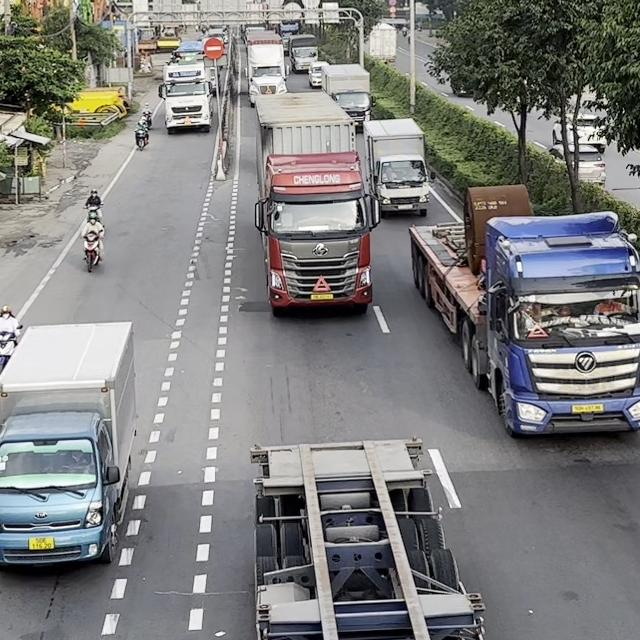car: (307, 60, 329, 88)
motorcycle: (0, 323, 23, 375), (81, 229, 104, 273), (134, 122, 149, 150), (83, 202, 103, 223), (140, 102, 153, 129)
truck: (408, 183, 639, 438), (249, 436, 486, 639), (0, 320, 137, 570), (253, 90, 381, 316), (361, 117, 430, 217), (159, 62, 214, 134), (320, 63, 373, 130), (245, 32, 288, 107), (368, 21, 396, 63)
